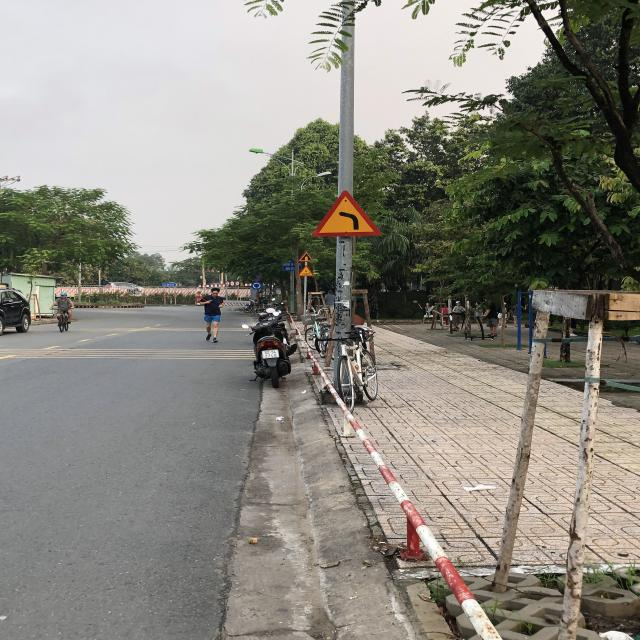Bien bao cho ngoat nguy hiem: (306, 190, 384, 238)
Bien bao di cham: (296, 264, 317, 278)
Bien bao noi giao nhau chay theo vong xuyen: (250, 281, 264, 290)
